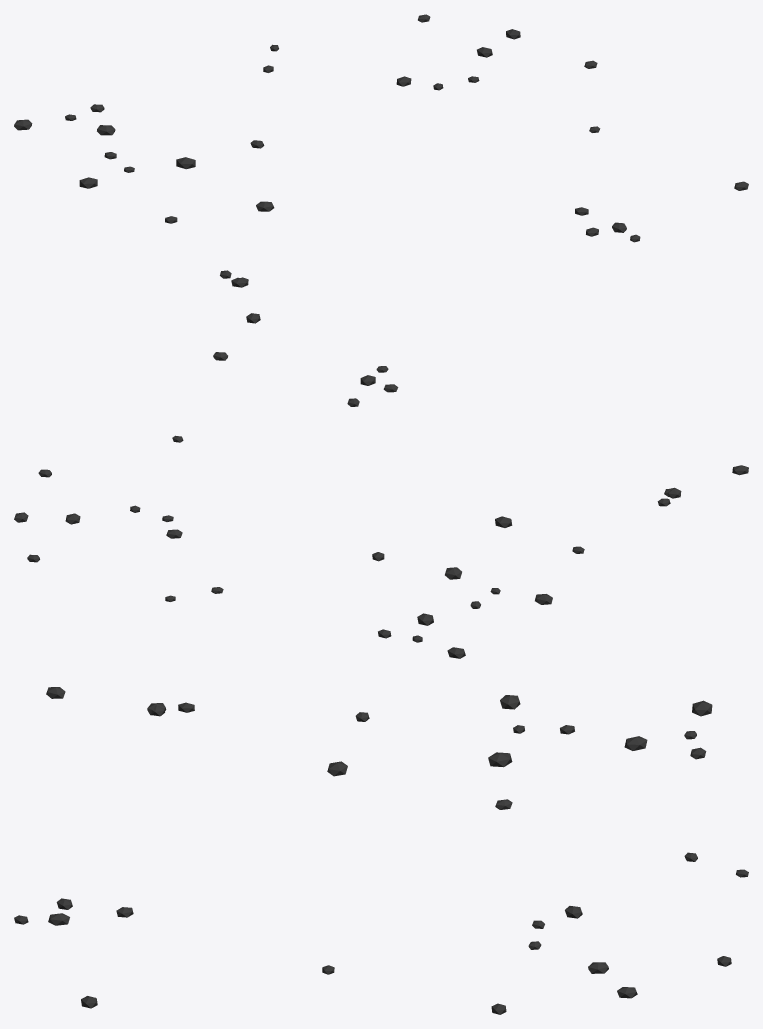
The model's file is batuuu.fbx.
3 renders of one model, top to bottom at view 1: azimuth 30°, elevation 25°; view 2: azimuth 150°, elevation 25°; view 3: azimuth 270°, elevation 25°, orthographic. The views are drawn at different scales.
Parts seen in each view (by area): view 1: Forest_Rocks; view 2: Forest_Rocks; view 3: Forest_Rocks.
Part boxes in pixels (x1=…): Forest_Rocks: x1=14, y1=14, x2=748, y2=323; Forest_Rocks: x1=14, y1=352, x2=748, y2=658; Forest_Rocks: x1=14, y1=687, x2=748, y2=1014.
Bounding box in the file's own units: 3608 × 68.26 × 3457.
